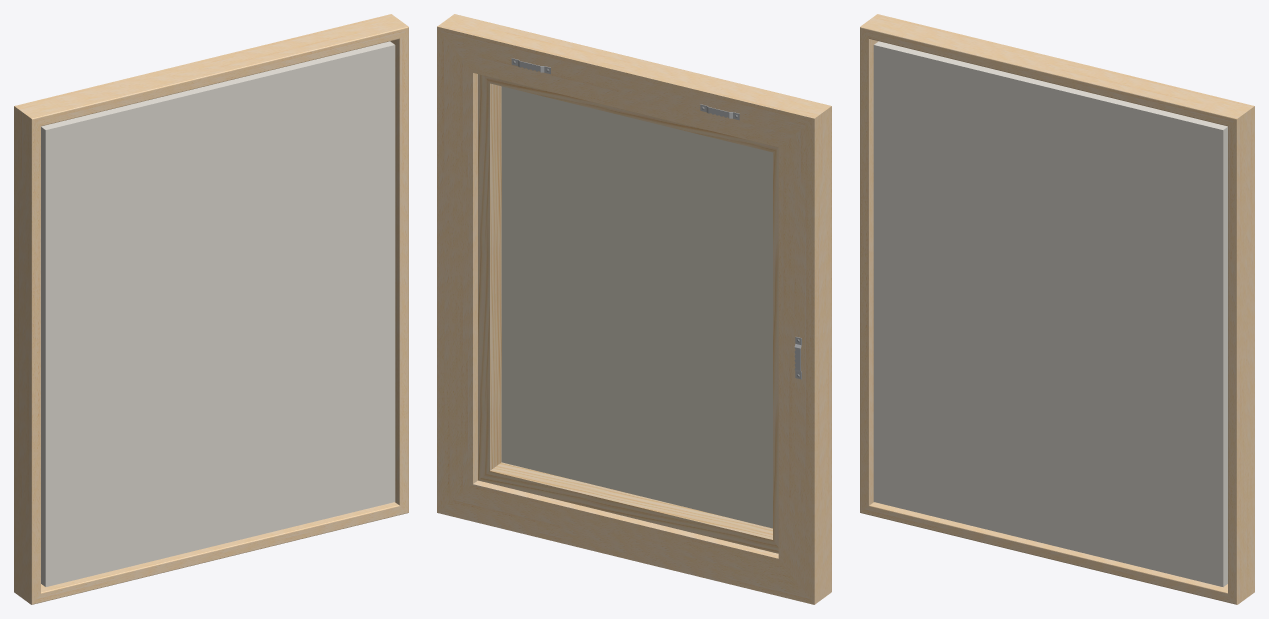
The model's file is decoded-from-delivery.glb.
The picture shows the model from 3 angles, left to right: view 1: azimuth 30°, elevation 25°; view 2: azimuth 150°, elevation 25°; view 3: azimuth 330°, elevation 25°; orthographic projection.
Parts seen in each view (by area): view 1: Canvas artwork front, Tray approved profile 0; view 2: Canvas linen reverse, Tray approved profile 0, Stretcher top, Sawtooth hanger 0; view 3: Canvas artwork front, Tray approved profile 0.
Boxes of the visible parts, <box> form: Canvas artwork front: <box>41,41,395,586</box>; Tray approved profile 0: <box>14,14,408,604</box>; Canvas linen reverse: <box>501,86,772,528</box>; Tray approved profile 0: <box>437,14,831,604</box>; Stretcher top: <box>478,74,778,553</box>; Sawtooth hanger 0: <box>511,58,801,379</box>; Canvas artwork front: <box>873,41,1227,586</box>; Tray approved profile 0: <box>860,14,1254,604</box>.
Size of the model in its own units: 0.432 by 0.532 by 0.0374.
Materials: 7 (3 with a texture image).
